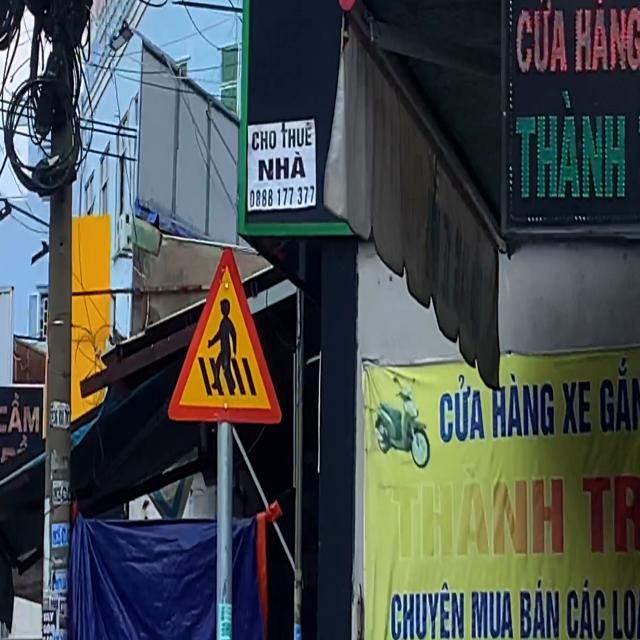Nguoi di bo cat ngang: (167, 245, 283, 424)
